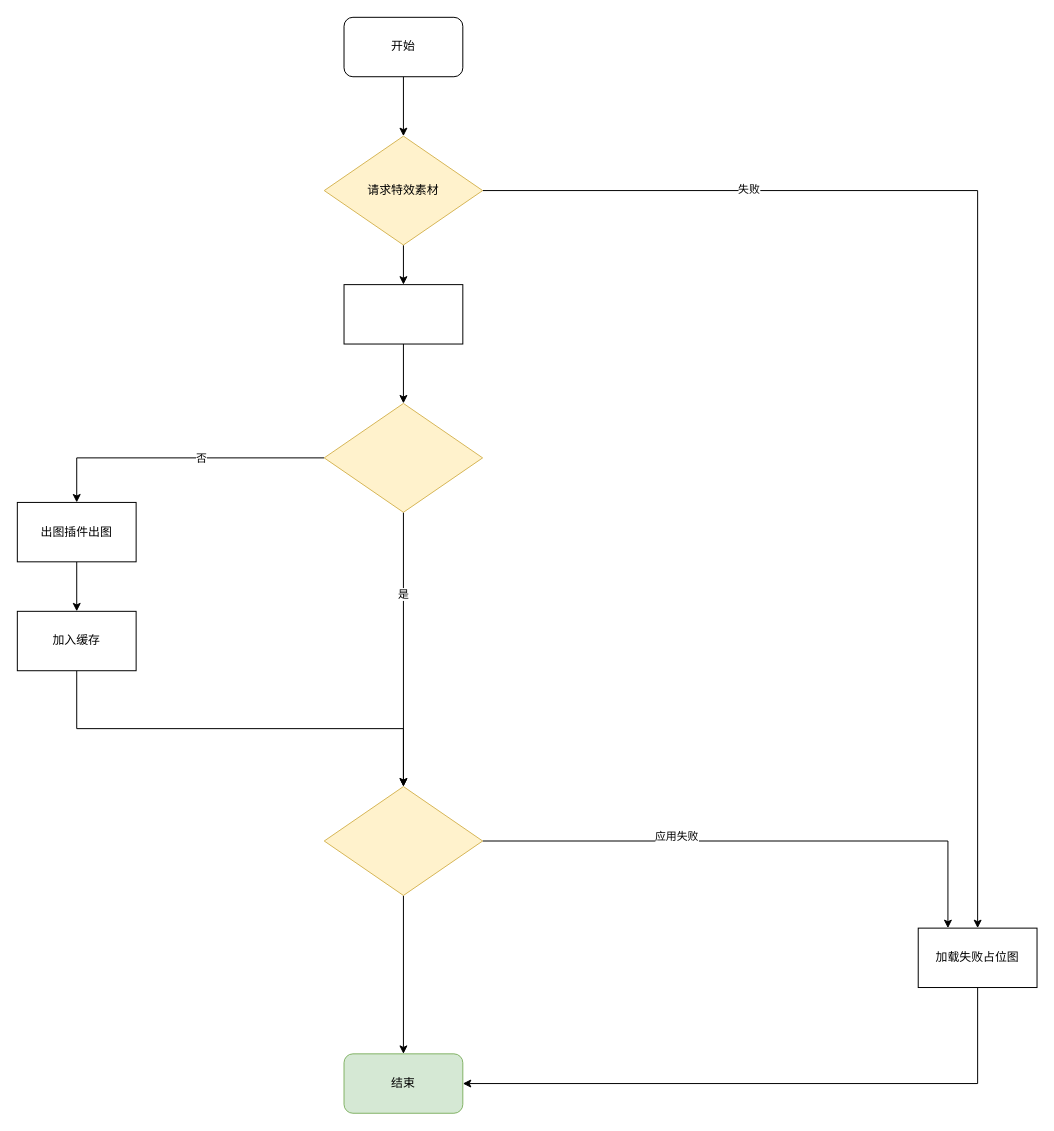
The diagram is 1054 pixels wide and 1131 high, and some of its shapes have lost their labels. The centre of each missing label's shape, as x and y in pixels:
"出图" goes at (x=403, y=314).
"存在缓存" goes at (x=403, y=457).
"应用特效" goes at (x=403, y=840).
